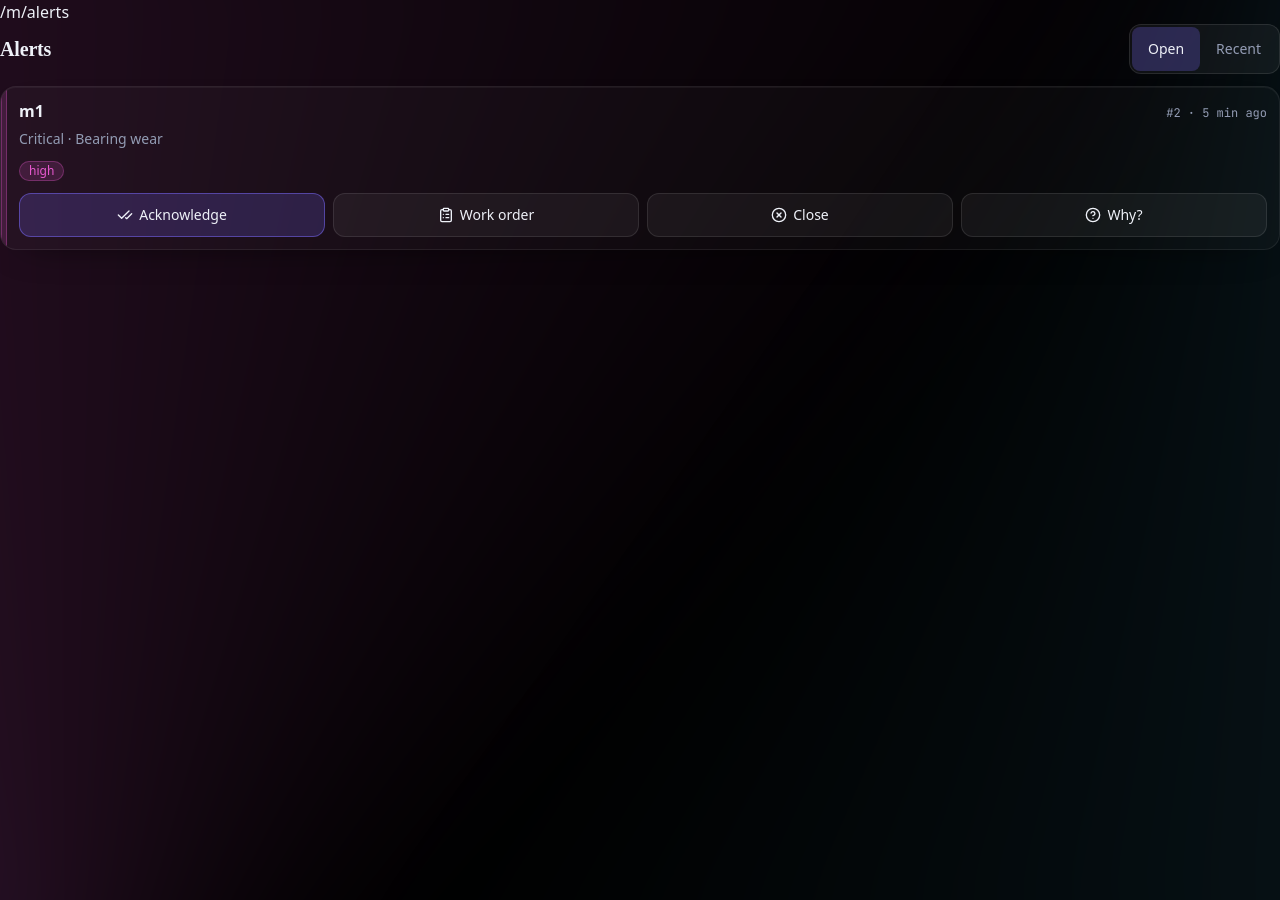
MobileAlertsPage › closes with an outcome through the close dialog and drops the card from Open
Step 1. Click the button with aria-label "Close alert #2" → point(800, 215), box [647,193,953,237]
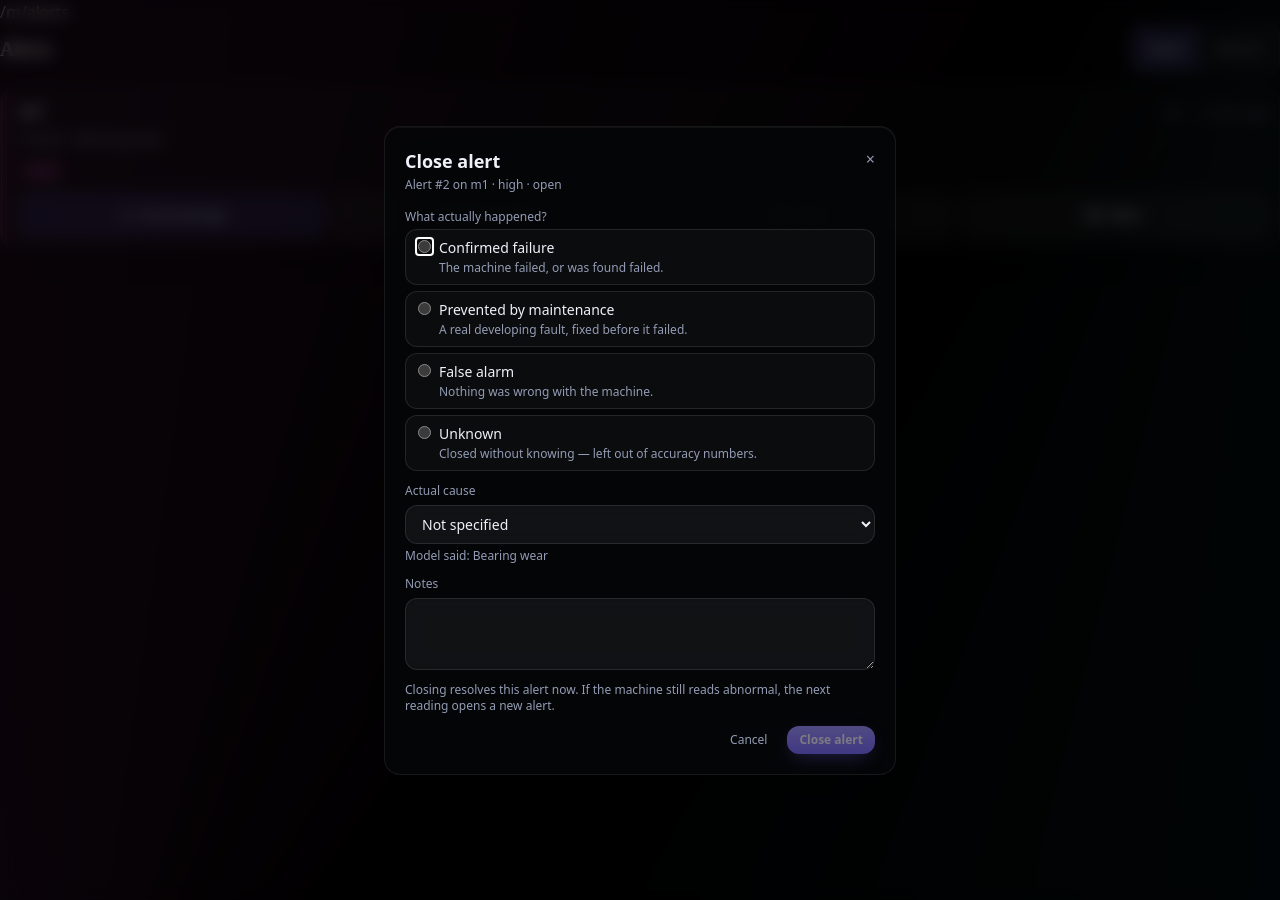
Step 2. Click the radio button labelled "False alarm Nothing was wrong with the machine." → point(424, 370), box [418,364,431,376]
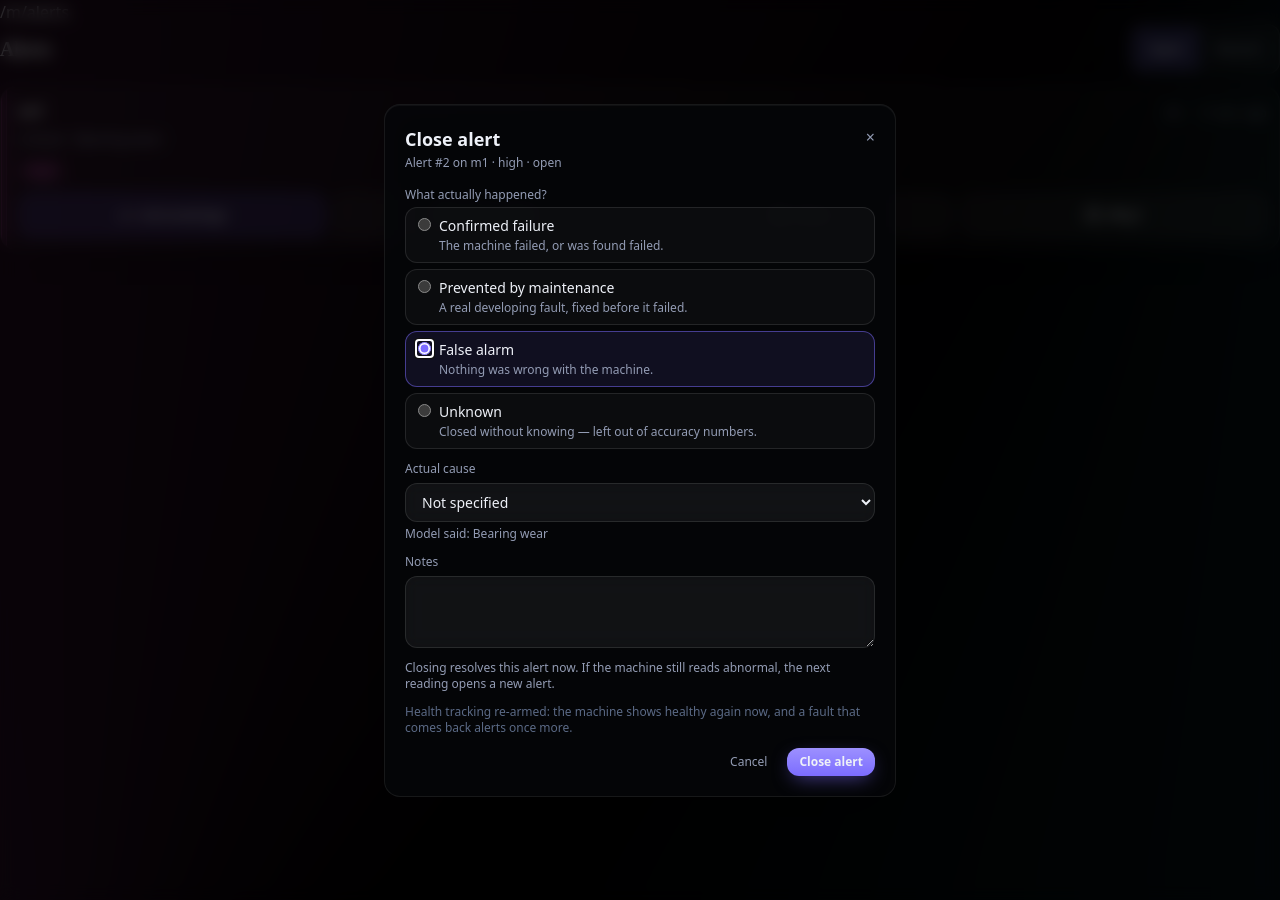
Step 3. Click the button "Close alert" → point(831, 762), box [787,748,875,776]
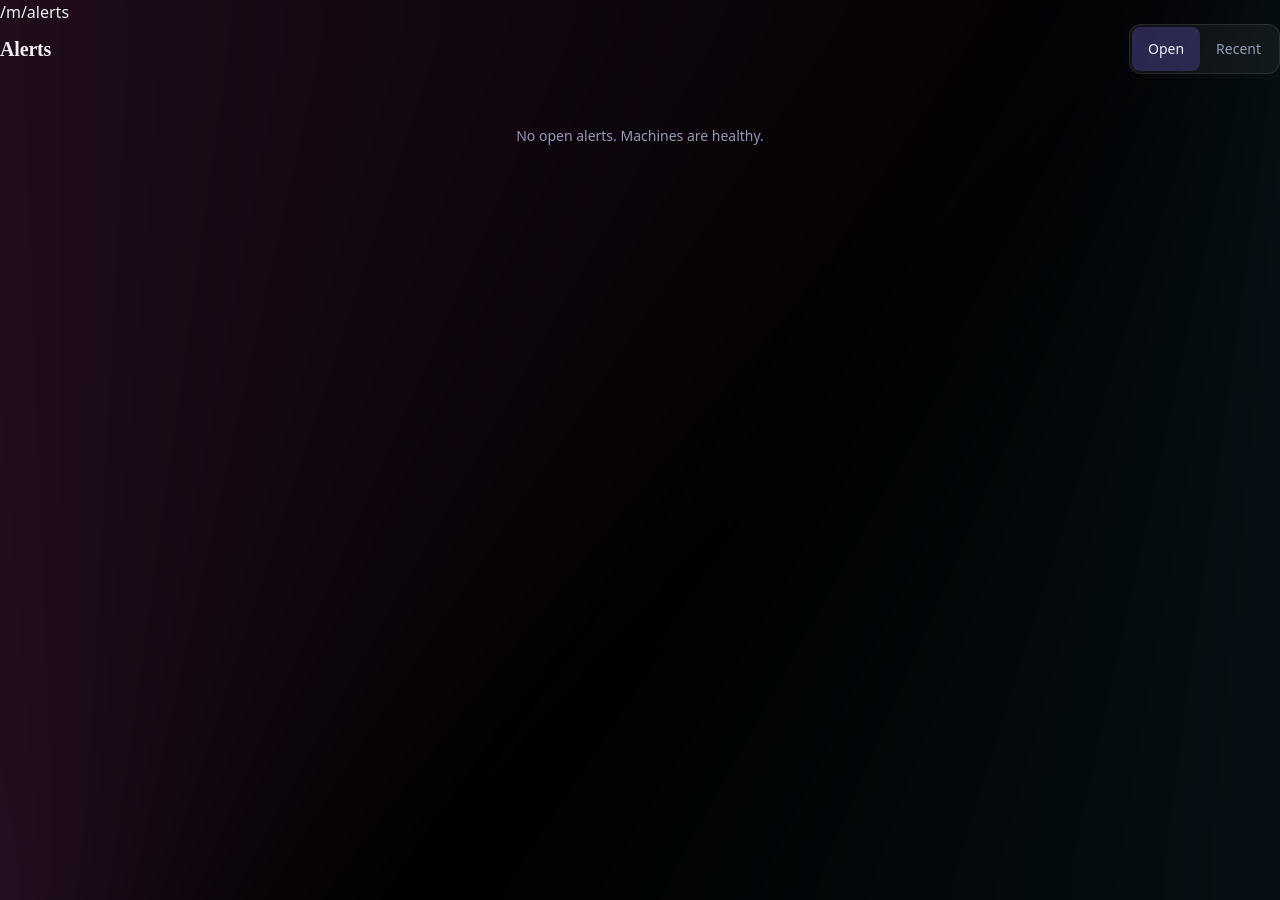
expect the dialog is gone: met
